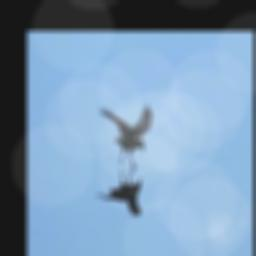Crow: (97, 103, 152, 170)
